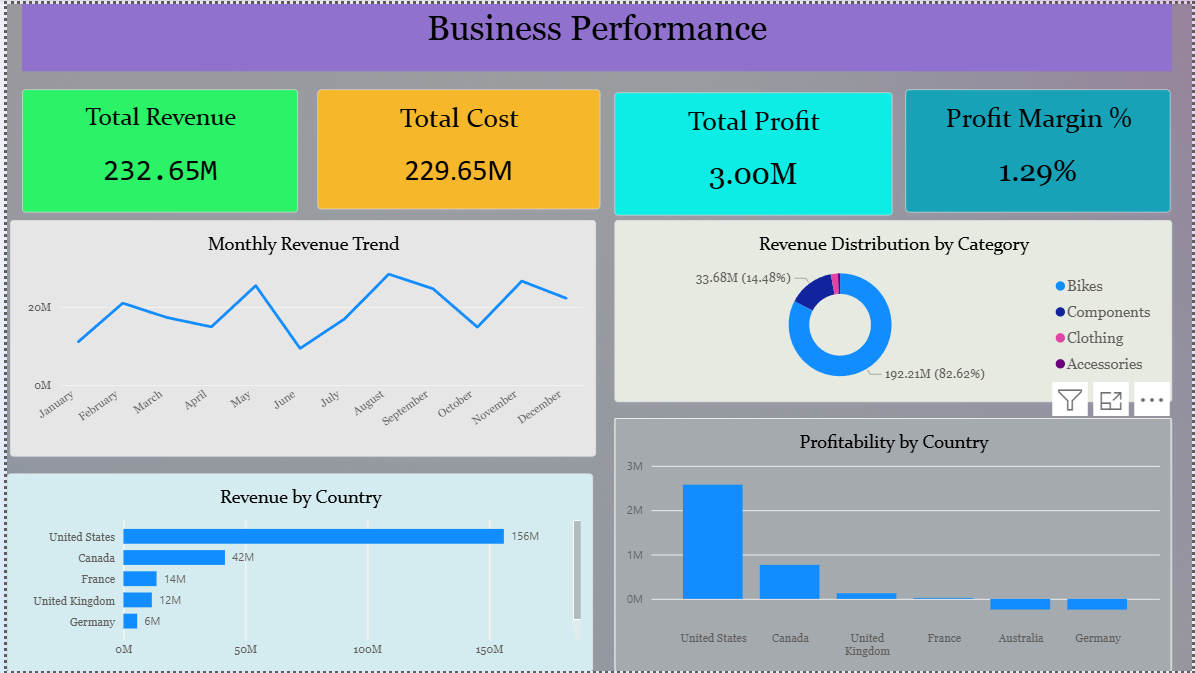

Layout of this report page (visuals, bound fields, positions):
{"tool":"powerbi","page":{"name":"Page 1","canvas":[1280,720],"ordinal":0},"visuals":[{"type":"card","title":"Total Revenue","fields":{"Values":["public product.Total Revenue"]},"box":[15.5,93.1,298.3,132.8],"z":0},{"type":"card","title":"Total Cost","fields":{"Values":["public product.Total Cost"]},"box":[334.5,93.1,305.2,129.3],"z":1000},{"type":"card","title":"Total Profit","fields":{"Values":["public product.Total Profit"]},"box":[655.2,94.8,300,132.8],"z":2000},{"type":"card","title":"Profit Margin %","fields":{"Values":["public product.Profit Margin %"]},"box":[970.7,93.1,286.2,132.8],"z":3000},{"type":"lineChart","title":"Monthly Revenue Trend","fields":{"Y":["public product.Total Revenue"],"Category":["public sales.order_date.Variation.Date Hierarchy.Month"]},"box":[3.4,232.8,632.8,255.2],"z":4000},{"type":"donutChart","title":"Revenue Distribution by Category","fields":{"Category":["public product.category"],"Y":["public product.Revenue by Category"]},"box":[655.2,232.8,601.7,196.6],"z":5000},{"type":"clusteredBarChart","title":"Revenue by Country","fields":{"Category":["public region.country"],"Y":["public product.Total Revenue"]},"box":[0,506.9,632.8,213.8],"z":6000},{"type":"clusteredColumnChart","title":"Profitability by Country","fields":{"Category":["public region.country"],"Y":["public product.Total Profit"]},"box":[655.2,446.6,601.7,274.1],"z":7000},{"type":"textbox","box":[15.5,0,1241.4,72.4],"z":7001}]}

Visuals, with their boxes in screenshot pixels (x1, y1, x2, y2), scaled from the page's 1280x720 canvas onto the 1195x673 screenshot:
"Total Revenue" card: box=[14, 87, 293, 211]
"Total Cost" card: box=[312, 87, 597, 208]
"Total Profit" card: box=[612, 89, 892, 213]
"Profit Margin %" card: box=[906, 87, 1173, 211]
"Monthly Revenue Trend" lineChart: box=[3, 218, 594, 456]
"Revenue Distribution by Category" donutChart: box=[612, 218, 1173, 401]
"Revenue by Country" clusteredBarChart: box=[0, 474, 591, 672]
"Profitability by Country" clusteredColumnChart: box=[612, 417, 1173, 672]
textbox: box=[14, 0, 1173, 68]
